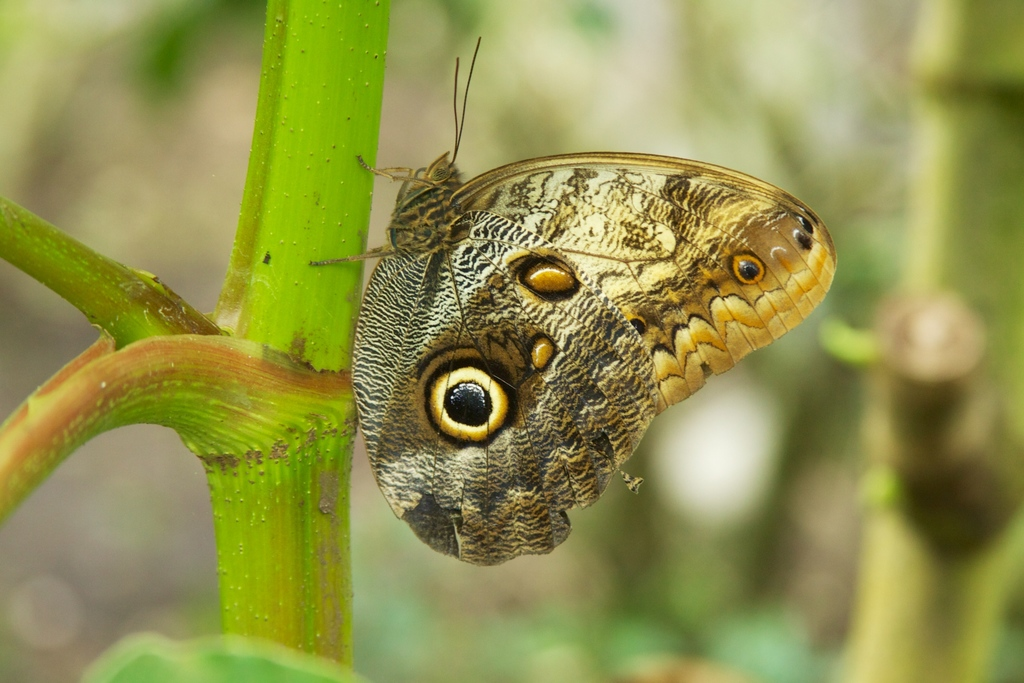Butterfly: (325, 96, 854, 576)
